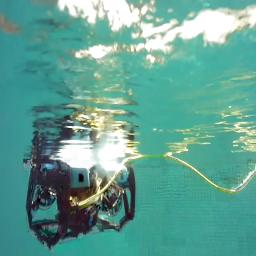back: (22, 159, 136, 252)
